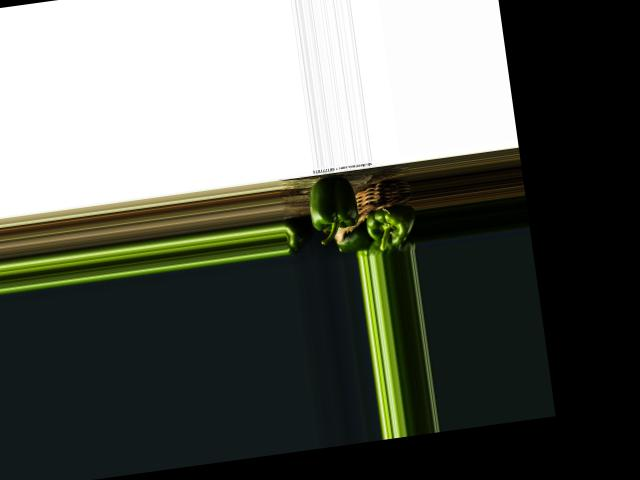bell_pepper: (283, 223, 306, 254)
